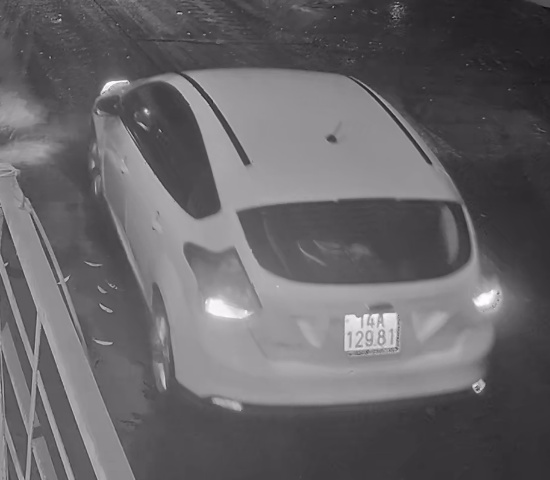vehicle plate: (339, 306, 409, 357)
